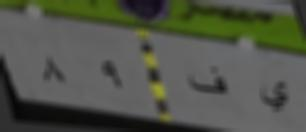8: (39, 51, 67, 90)
9: (95, 57, 127, 90)
faa: (187, 66, 229, 98)
yaa: (256, 73, 295, 117)
